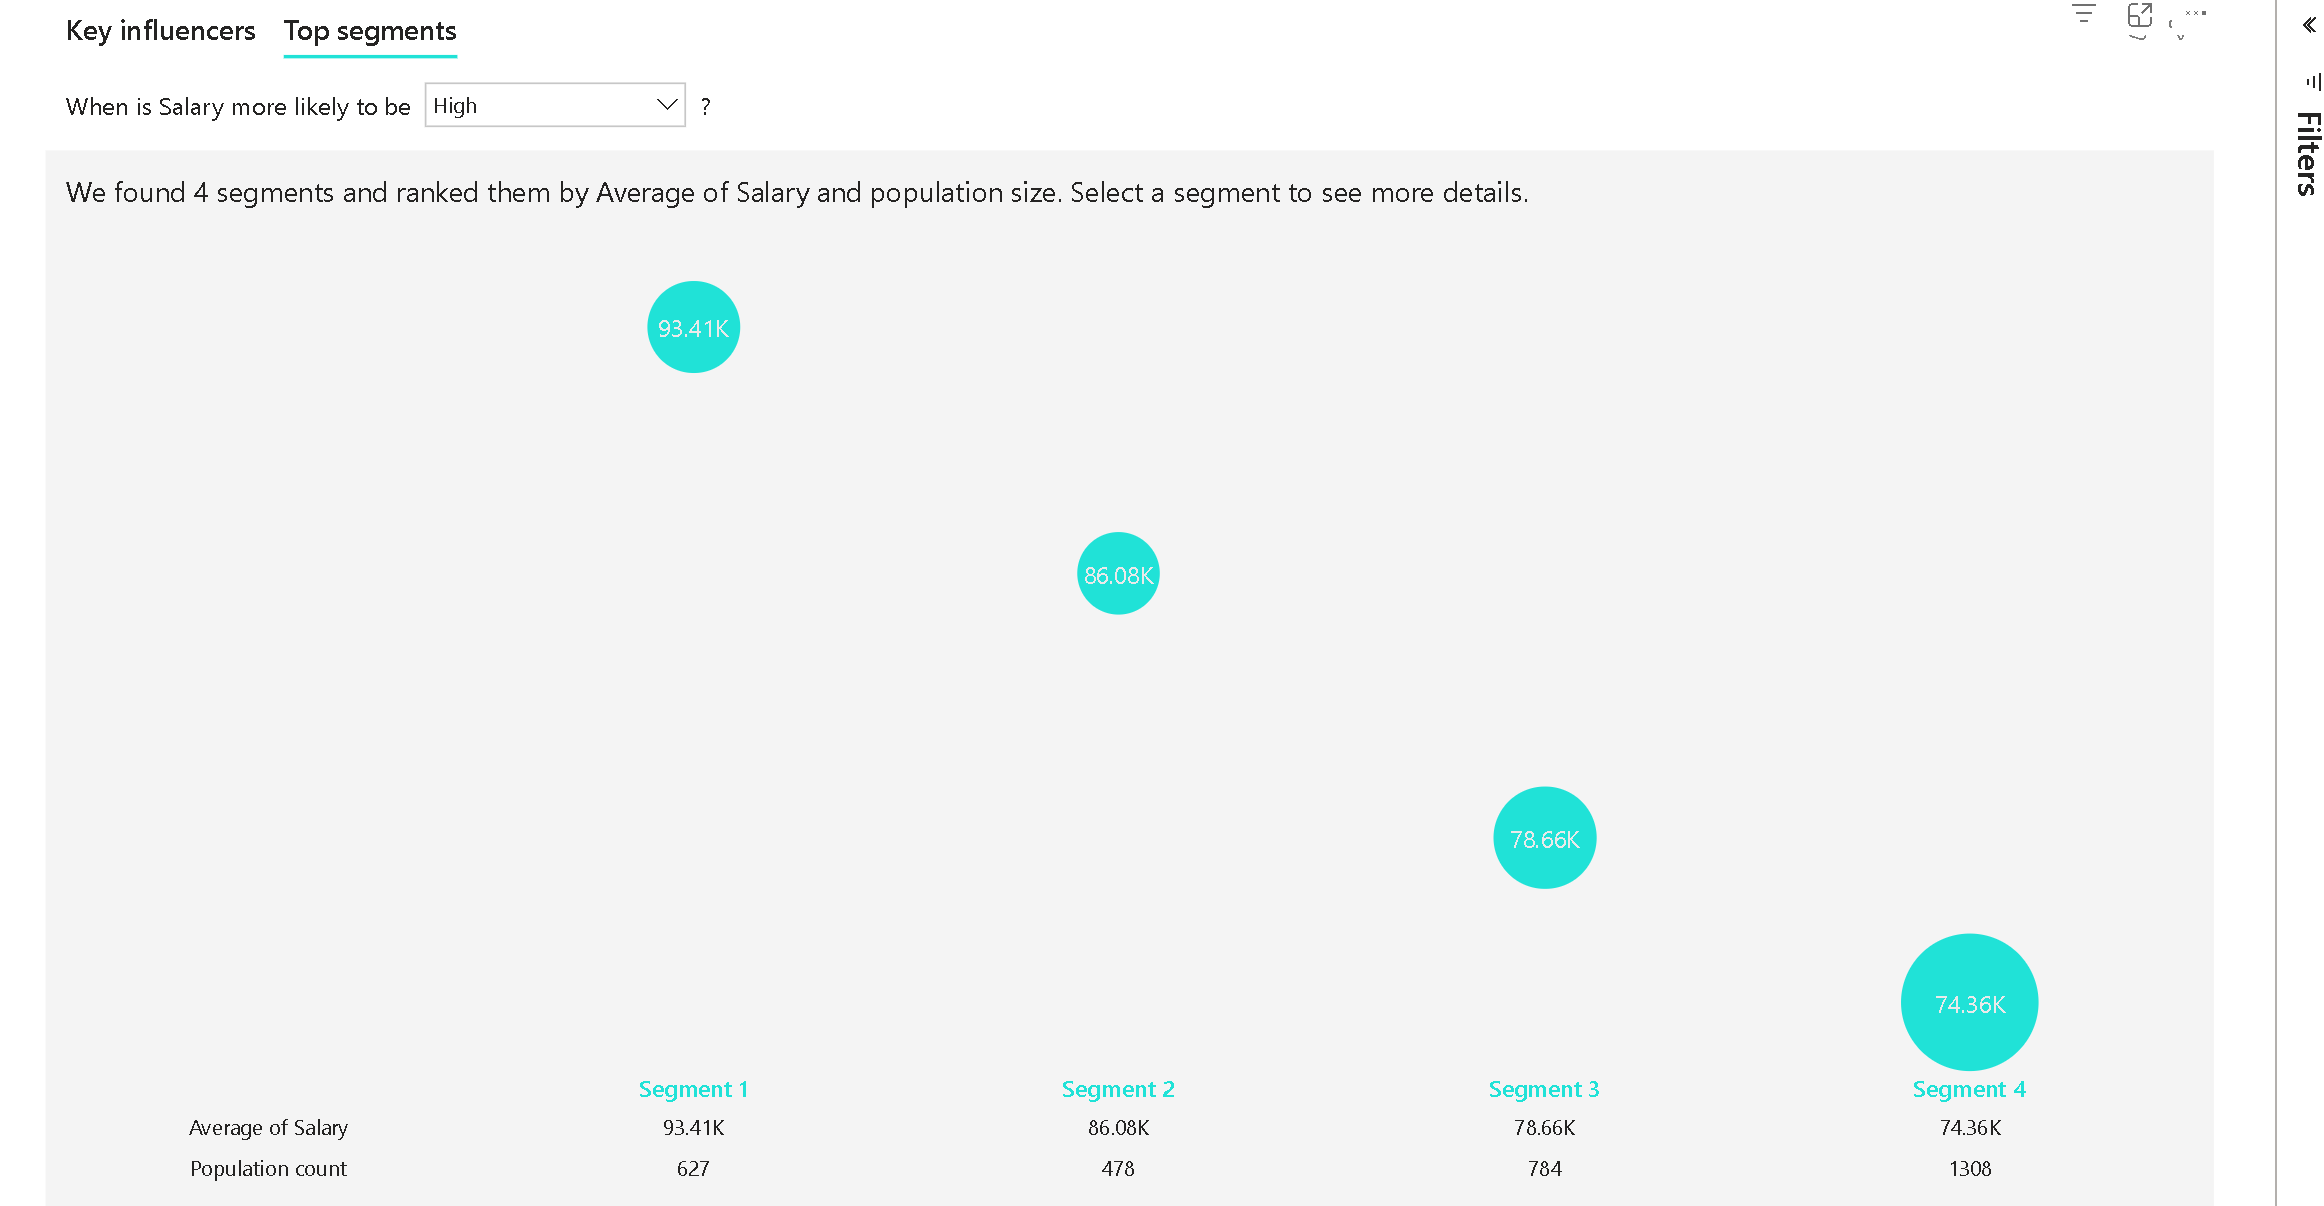

The page's visual inventory and layout, read from the dashboard file:
{"tool":"powerbi","page":{"name":"Key Influencers","canvas":[1280,720],"ordinal":5},"visuals":[{"type":"keyDriversVisual","fields":{"Target":["HumanResources.Salary"],"ExplainBy":["HumanResources.Department","HumanResources.City","HumanResources.Education Level","HumanResources.Gender","HumanResources.Job Title","HumanResources.State","HumanResources.Performance Rating"]},"box":[9.7,0,1270.3,719.4],"z":0}]}

Visuals, with their boxes on the page's 1280x720 design canvas (x1, y1, x2, y2). These are canvas units, not pixel positions in the 2324x1206 screenshot, which may show the page scaled, cropped or inside an application window:
keyDriversVisual - HumanResources.Salary x HumanResources.Department: bbox=[10, 0, 1280, 719]
